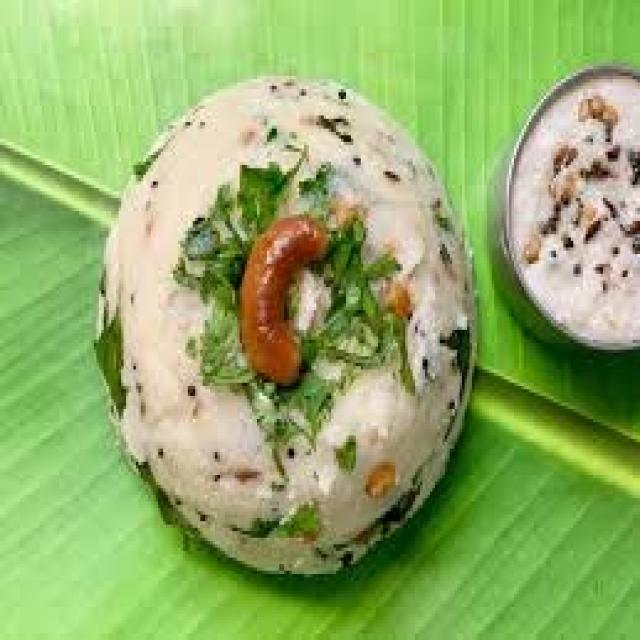UPMA: (96, 82, 472, 571)
